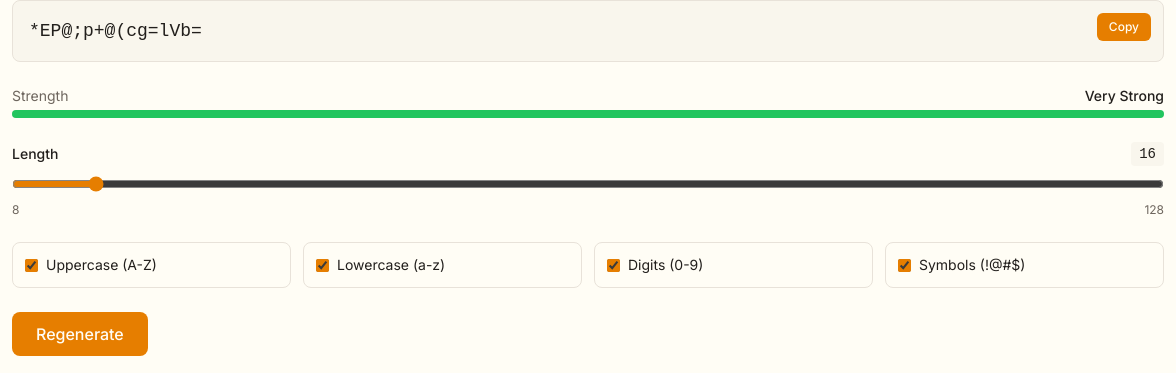
Test case: PasswordGenerator › shows empty password when no character set is selected
Click the checkbox labelled "Uppercase (A-Z)": (32, 265) x1=25 y1=258 x2=38 y2=272
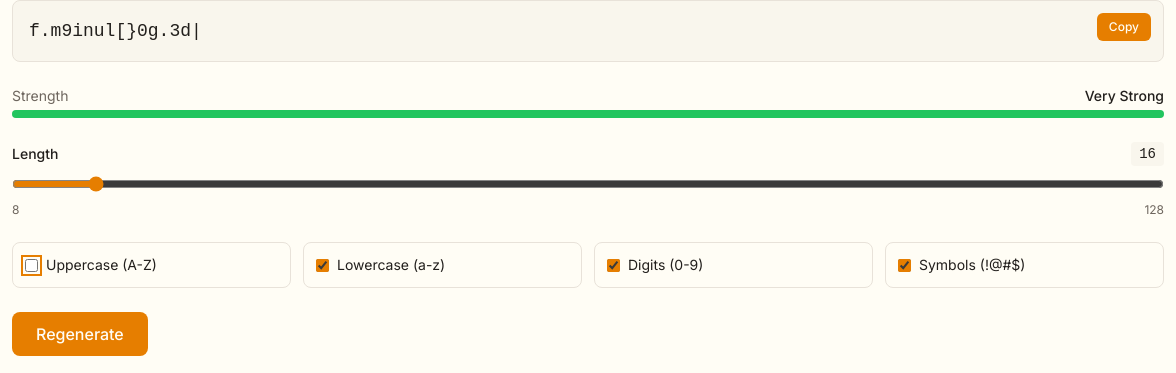
Click the checkbox labelled "Lowercase (a-z)": (322, 265) x1=316 y1=258 x2=329 y2=272
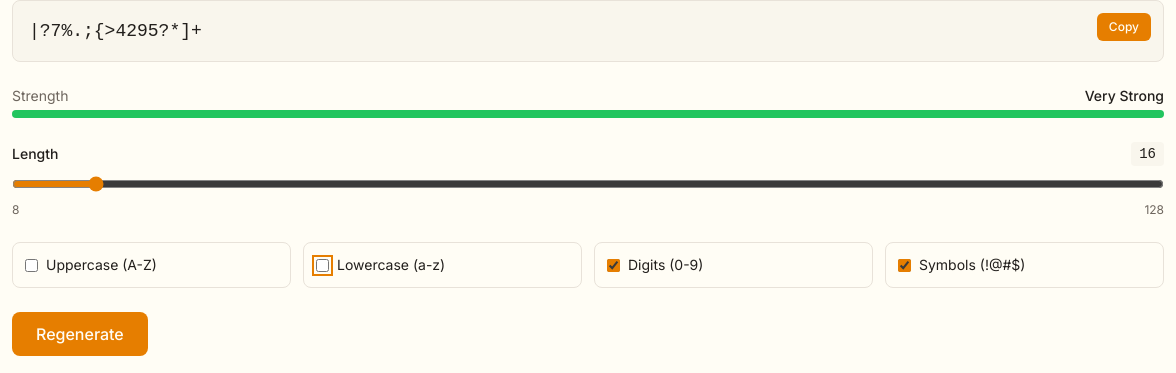
Click the checkbox labelled "Digits (0-9)": (614, 265) x1=607 y1=258 x2=620 y2=272
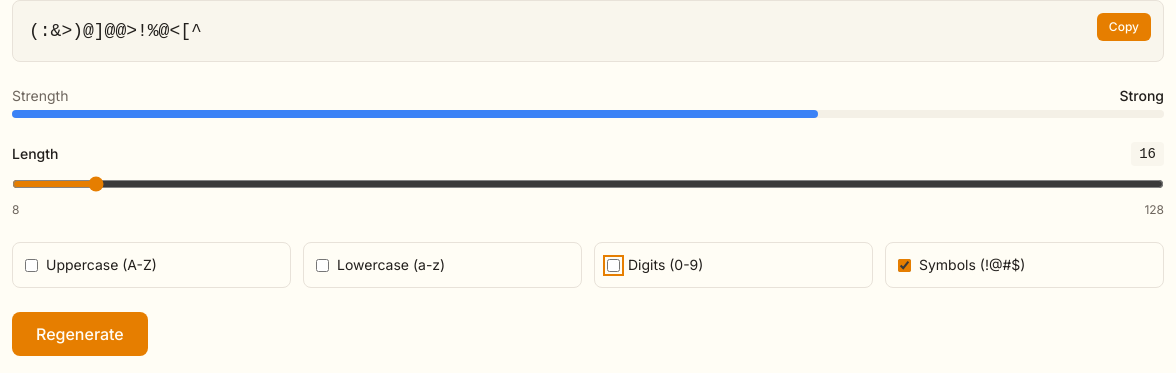
Click the checkbox labelled "Symbols (!@#$)": (904, 265) x1=898 y1=258 x2=911 y2=272
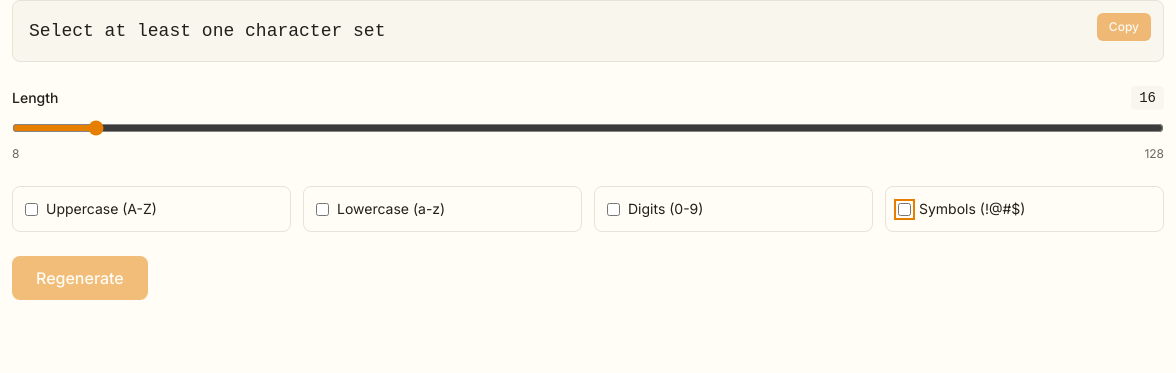
Now the text named "Generated password" reads "Select at least one character set", box x1=29 y1=21 x2=386 y2=41
